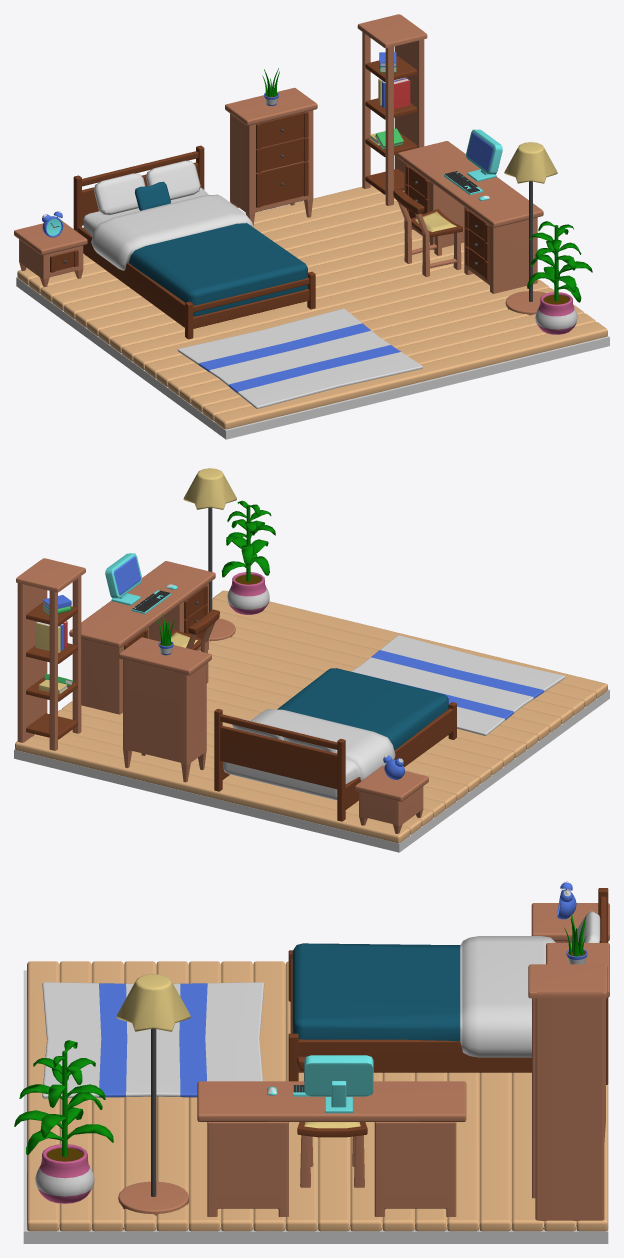
File: BEDROOM.fbx
3 views of the same model, one above another, from view 1: azimuth 30°, elevation 25°; view 2: azimuth 150°, elevation 25°; view 3: azimuth 270°, elevation 25° (orthographic). The views are drawn at different scales.
Visible parts, largest first — view 1: floor_planks, Bed, mattress, computer_table, chester_drawers, Shelf, base, plant, side_table, chair, Lamp, monitor (+1 smaller); view 2: floor_planks, Bed, chester_drawers, mattress, Shelf, computer_table, base, plant, side_table, Lamp, monitor, books (+1 smaller); view 3: floor_planks, Bed, computer_table, mattress, Shelf, base, plant, Lamp, monitor, chair, side_table, chester_drawers (+2 smaller).
Boxes of the visible parts, left/top/right/bottom form: floor_planks: left=17, top=185, right=607, bottom=429; Bed: left=73, top=145, right=315, bottom=339; mattress: left=177, top=308, right=422, bottom=408; computer_table: left=397, top=141, right=543, bottom=293; chester_drawers: left=225, top=87, right=317, bottom=225; Shelf: left=357, top=14, right=427, bottom=205; base: left=16, top=277, right=609, bottom=439; plant: left=527, top=221, right=592, bottom=334; side_table: left=14, top=220, right=87, bottom=286; chair: left=393, top=189, right=462, bottom=276; Lamp: left=504, top=142, right=557, bottom=315; monitor: left=466, top=129, right=502, bottom=181; floor_planks: left=15, top=590, right=607, bottom=843; Bed: left=214, top=668, right=456, bottom=821; chester_drawers: left=119, top=637, right=211, bottom=782; mattress: left=351, top=635, right=565, bottom=735; Shelf: left=16, top=558, right=85, bottom=750; computer_table: left=69, top=561, right=215, bottom=714; base: left=14, top=689, right=609, bottom=852; plant: left=221, top=500, right=275, bottom=614; side_table: left=355, top=765, right=428, bottom=833; Lamp: left=183, top=468, right=236, bottom=641; monitor: left=105, top=553, right=141, bottom=605; books: left=35, top=595, right=73, bottom=694; floor_planks: left=27, top=961, right=608, bottom=1231; Bed: left=288, top=888, right=608, bottom=1084; computer_table: left=197, top=1081, right=466, bottom=1216; mattress: left=42, top=982, right=264, bottom=1098; Shelf: left=528, top=964, right=607, bottom=1220; base: left=23, top=970, right=608, bottom=1243; plant: left=14, top=1040, right=113, bottom=1203; Lamp: left=116, top=974, right=190, bottom=1215; monitor: left=304, top=1055, right=373, bottom=1113; chair: left=297, top=1056, right=367, bottom=1187; side_table: left=531, top=903, right=609, bottom=942; chester_drawers: left=546, top=943, right=609, bottom=1141.
Size of the model in its own units: 463 by 206 by 444.
